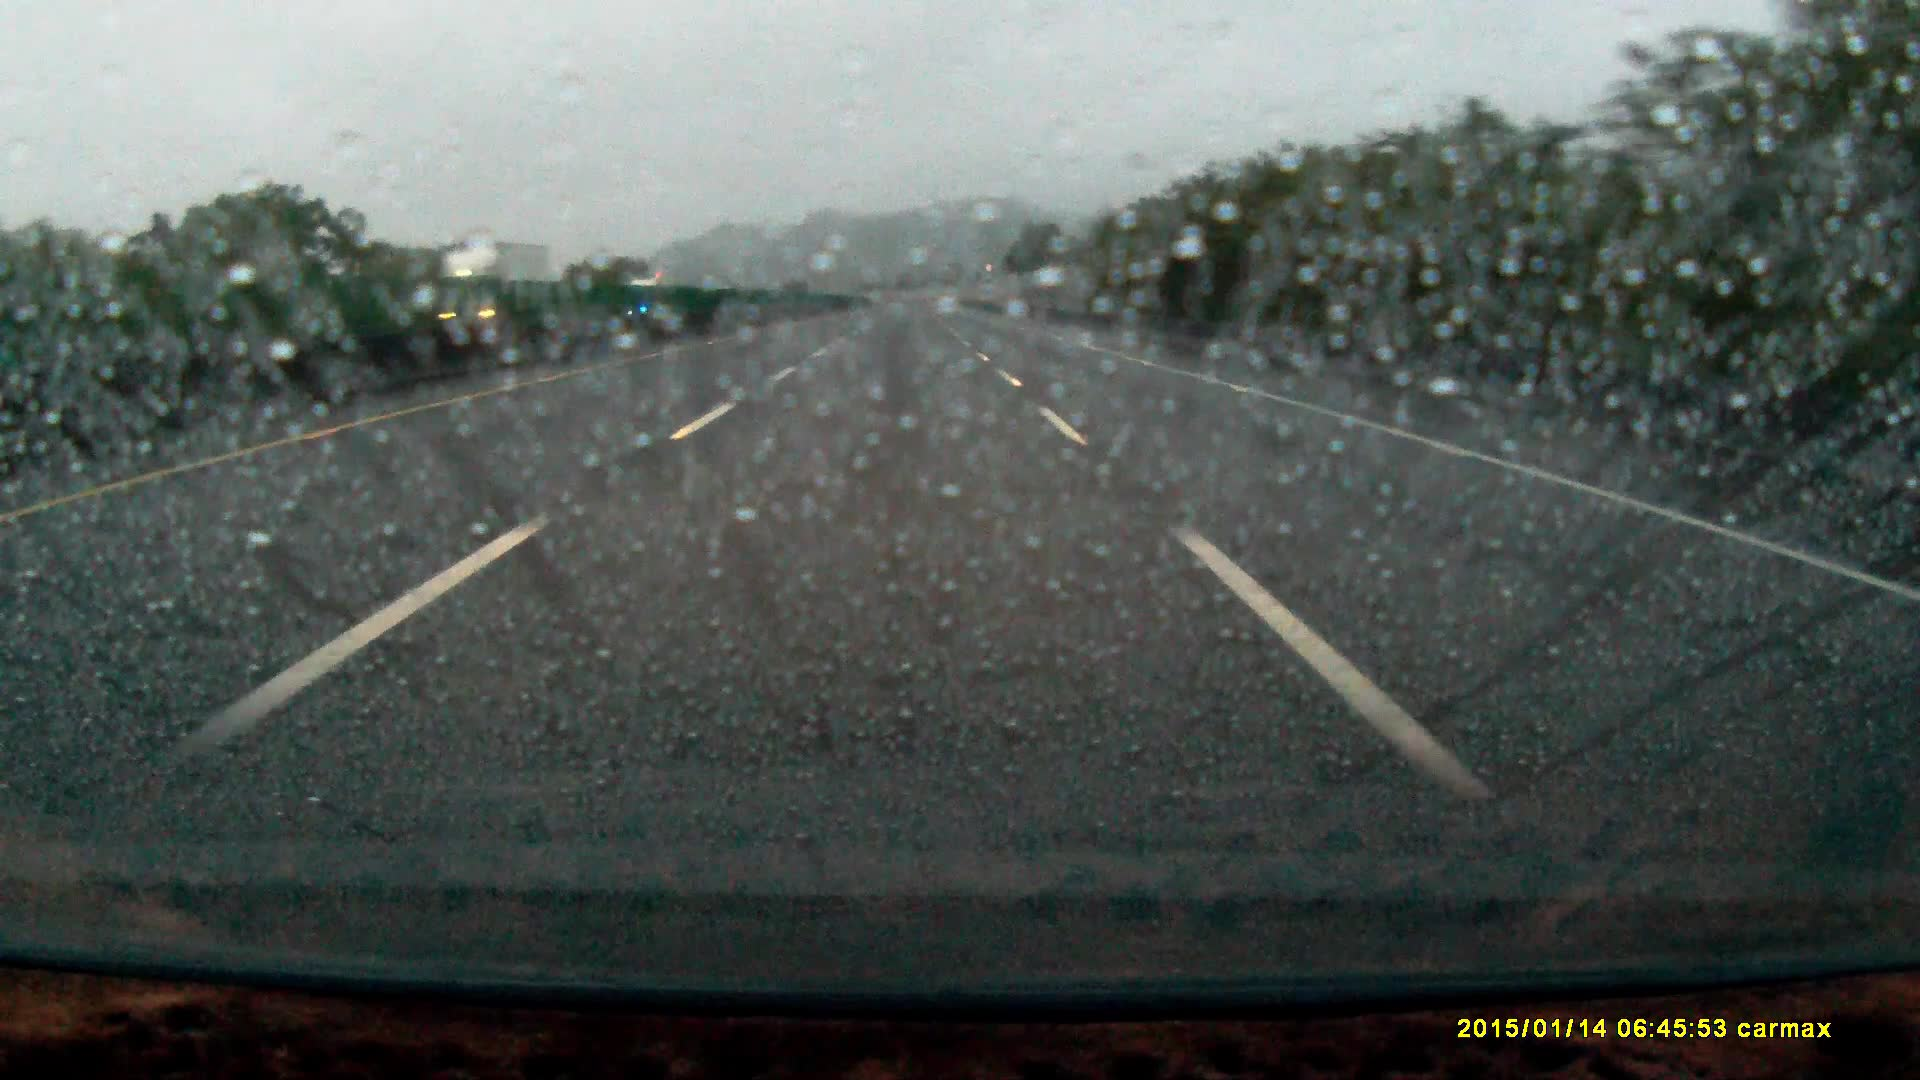vehicle: (433, 241, 568, 349), (632, 278, 680, 314)
